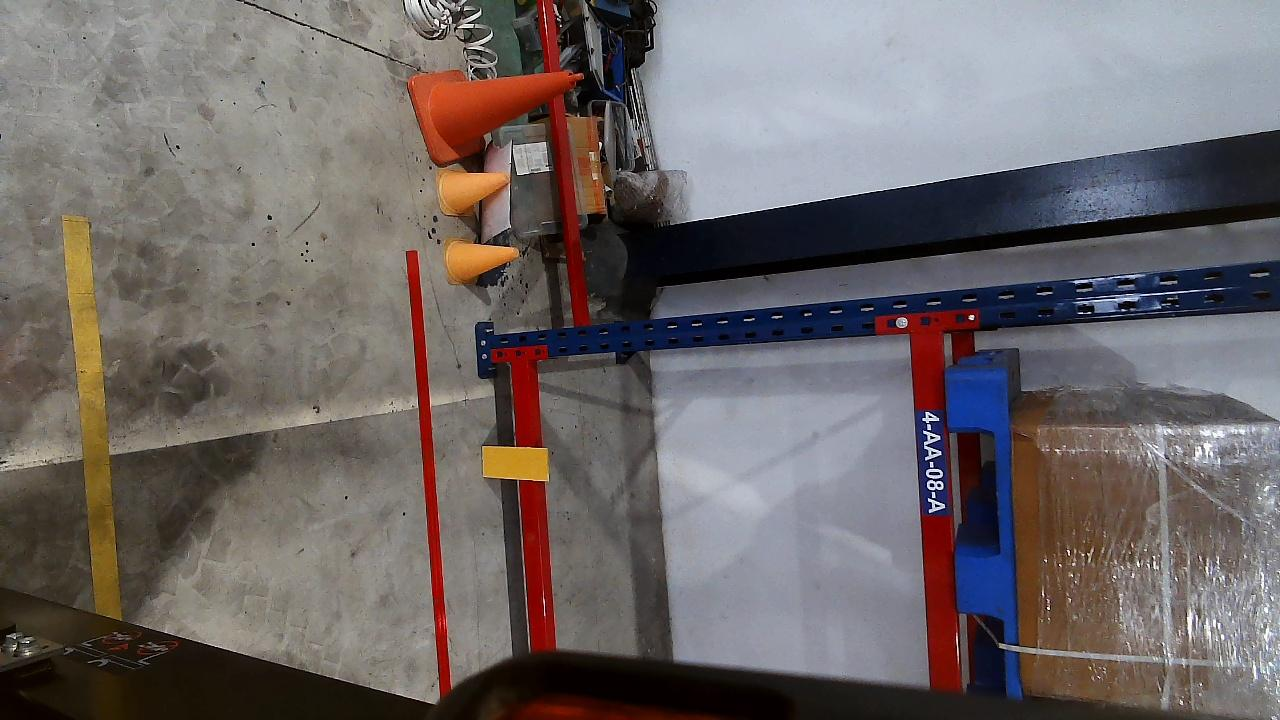h_rack: (908, 327, 963, 689), (509, 358, 555, 651)
orange_strip: (481, 446, 548, 480)
red_line: (407, 250, 452, 682)
small_pallet: (948, 374, 1013, 692)
yellow_line: (60, 216, 118, 620)
